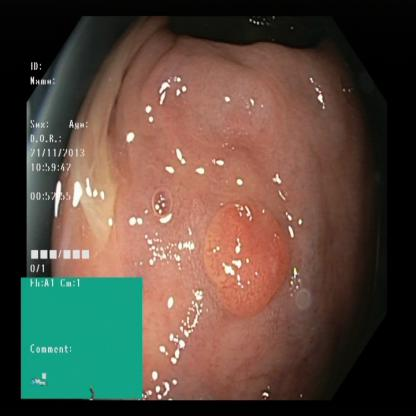Labels: (25, 56, 113, 276), (21, 277, 144, 396)
Polyps: (190, 170, 300, 326)
